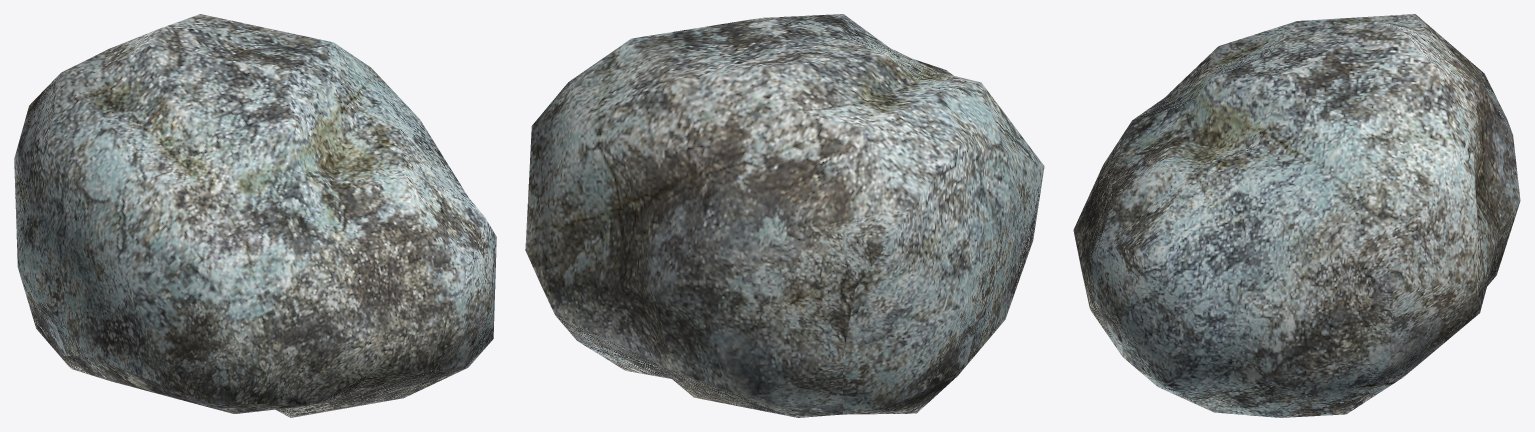
Rendered from Rock5B.fbx.
3 views of the same model, side by side, from view 1: azimuth 30°, elevation 25°; view 2: azimuth 150°, elevation 25°; view 3: azimuth 270°, elevation 25° (orthographic). The views are drawn at different scales.
Parts seen in each view (by area): view 1: polySurface8; view 2: polySurface8; view 3: polySurface8.
Boxes of the visible parts, x1,y1,x2,y2 form: polySurface8: (14,14,496,417); polySurface8: (525,14,1044,417); polySurface8: (1073,14,1520,417).
Size of the model in its own units: 3.46 by 2.9 by 3.65.
